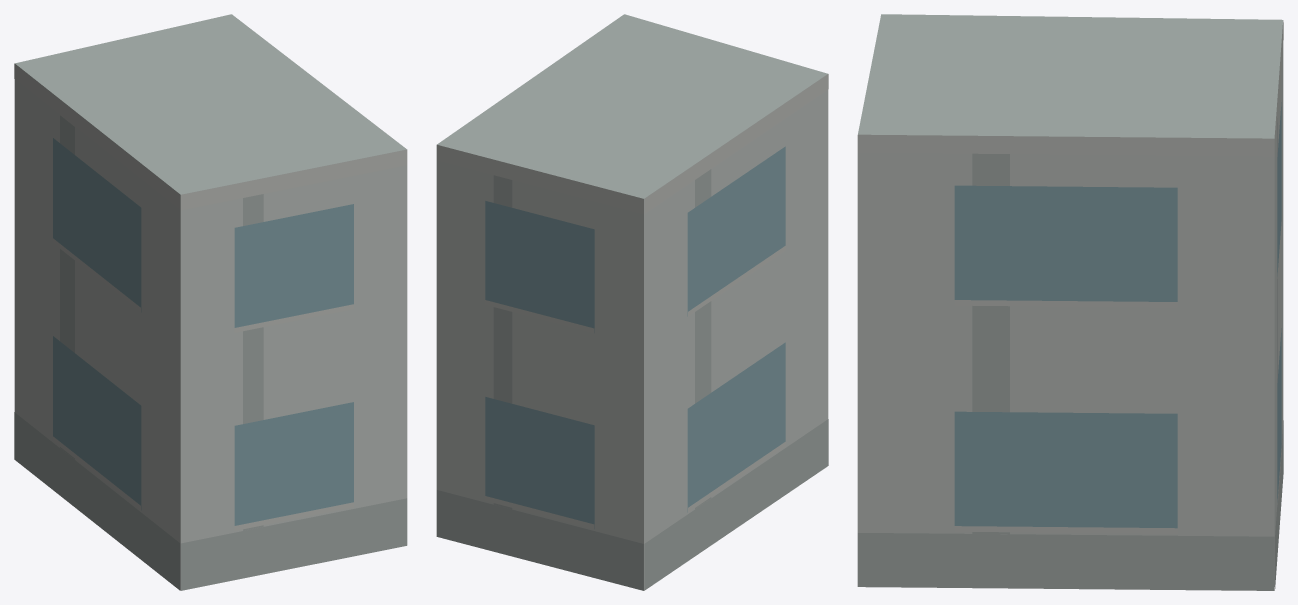
The model's file is survey-upis-32704472.glb.
3 renders of one model, left to right at view 1: azimuth 30°, elevation 25°; view 2: azimuth 150°, elevation 25°; view 3: azimuth 270°, elevation 25°, orthographic. The views are drawn at different scales.
Visible parts, largest first — view 1: survey-upis-32704472.tmp; view 2: survey-upis-32704472.tmp; view 3: survey-upis-32704472.tmp.
Part boxes in pixels (<box>): survey-upis-32704472.tmp: <box>14,14,407,590</box>; survey-upis-32704472.tmp: <box>436,14,828,590</box>; survey-upis-32704472.tmp: <box>857,14,1283,590</box>.
Bounding box in the file's own units: 3.61 × 6.1 × 5.21.
